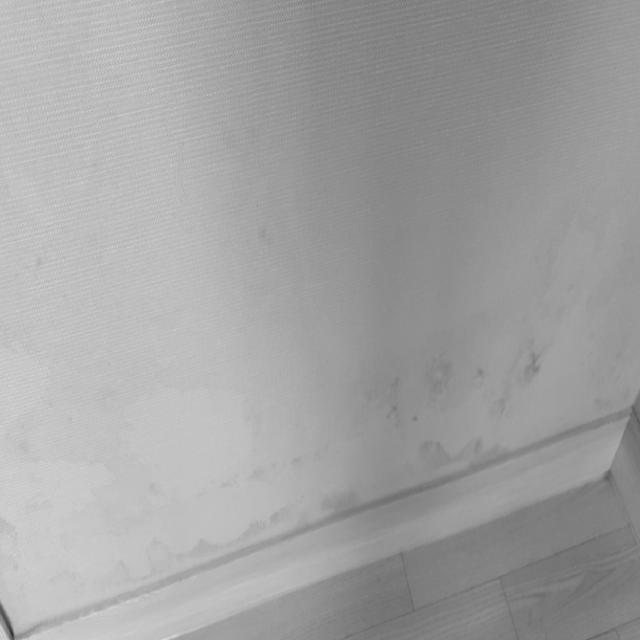stain marks: (320, 179, 640, 512), (2, 203, 320, 457), (0, 457, 321, 612), (0, 0, 168, 194)
